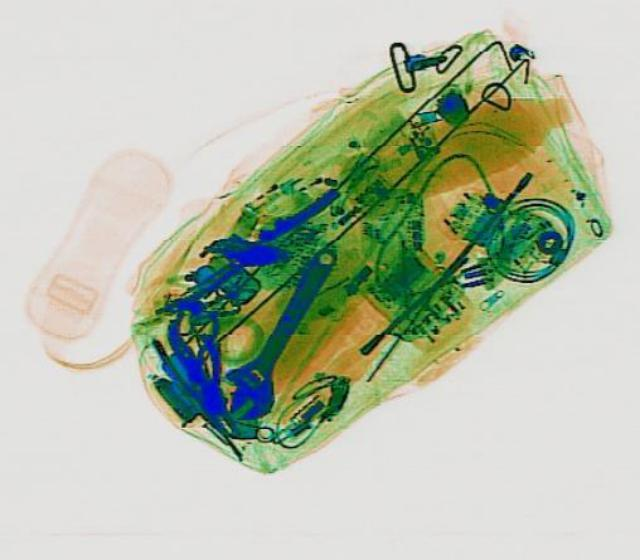Pliers: (160, 310, 240, 420)
Wrench: (204, 234, 356, 423)
